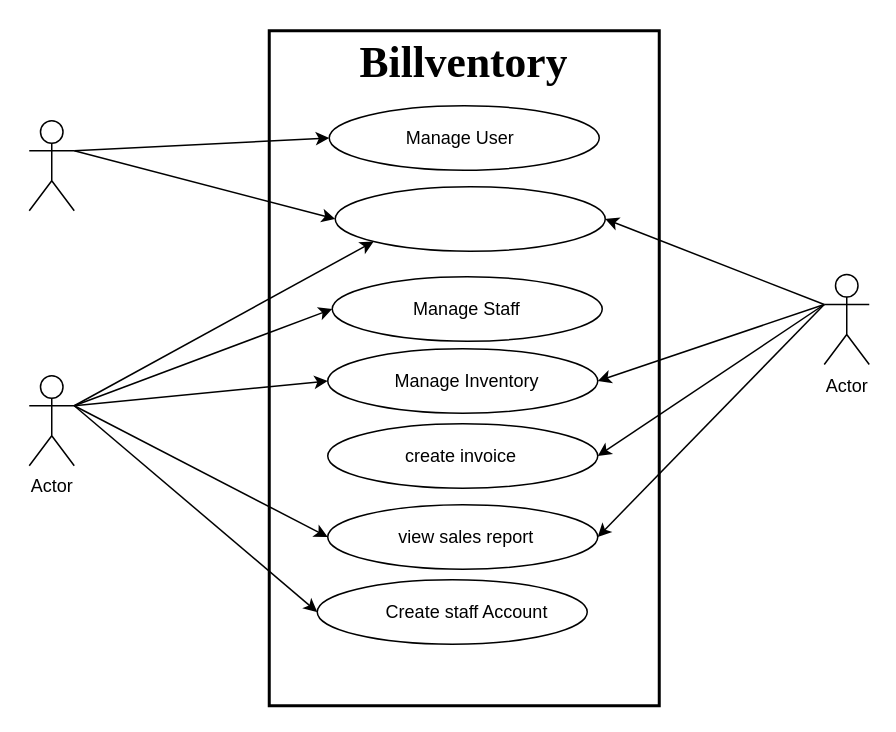
This 896x732 diagram has some shape labels left out. The shapes that lost their labels are listed below. From the top down, each one's box as (x1, y1, x2, y2) in pixels, then its label:
(28, 119, 74, 211): Admin
(334, 185, 605, 251): Loging
